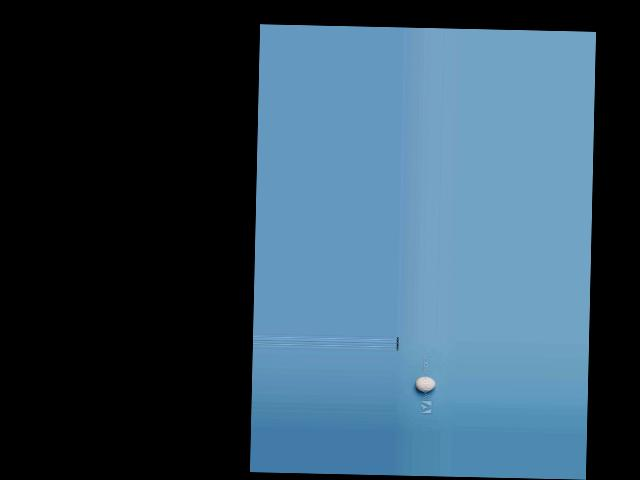egg: (415, 376, 434, 391)
